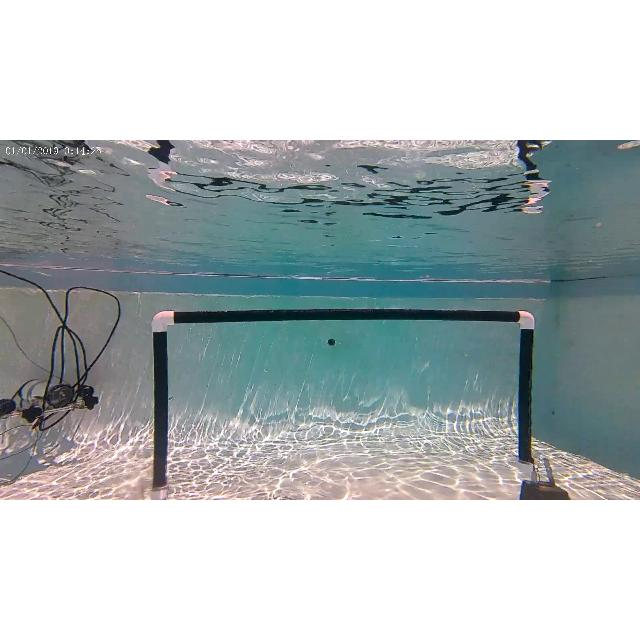prequal gate: (150, 306, 536, 494)
prequal gate leg l: (146, 309, 176, 491)
prequal gate leg r: (511, 306, 574, 499)
